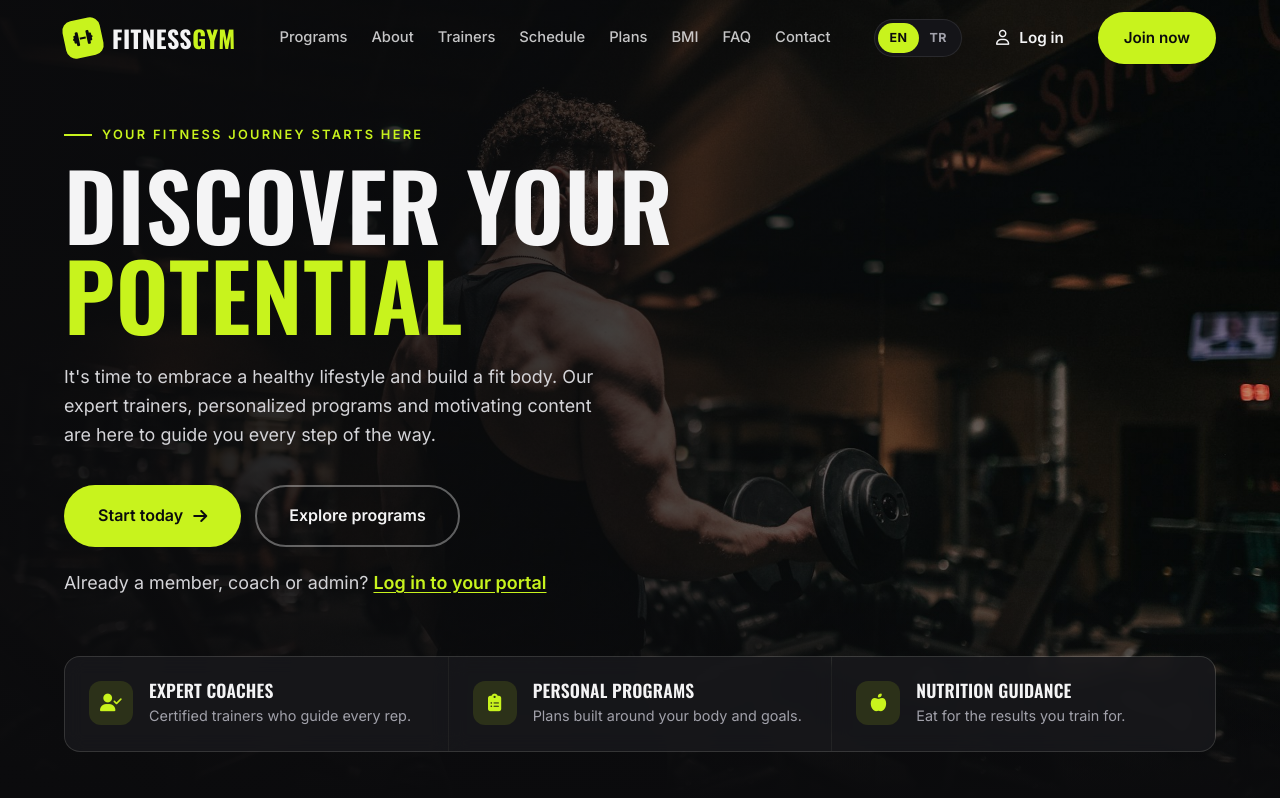
Test: switches the whole page to Turkish and remembers it
Click the button "TR" at (938, 38), box [918, 23, 958, 53]
(page scrolled)
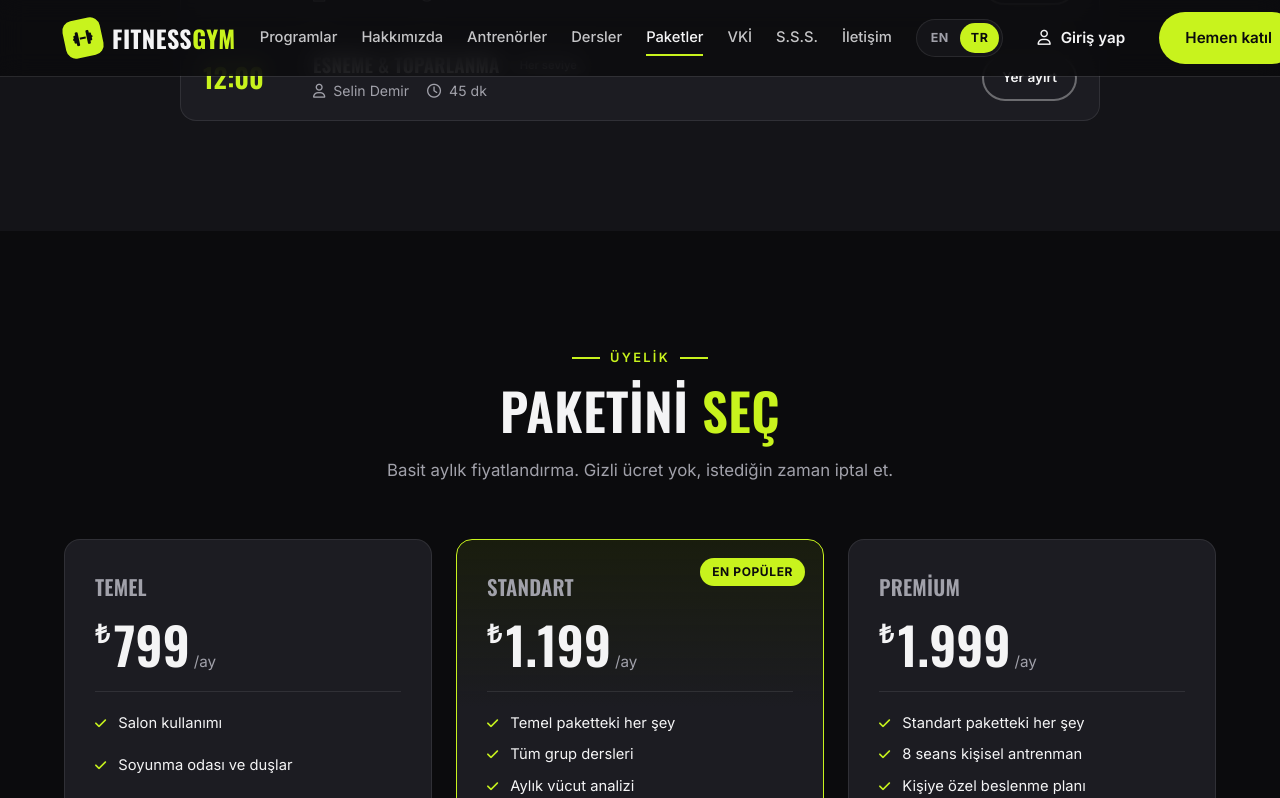
Expected: the heading "Paketini seç" is shown, [500, 372, 780, 448]
